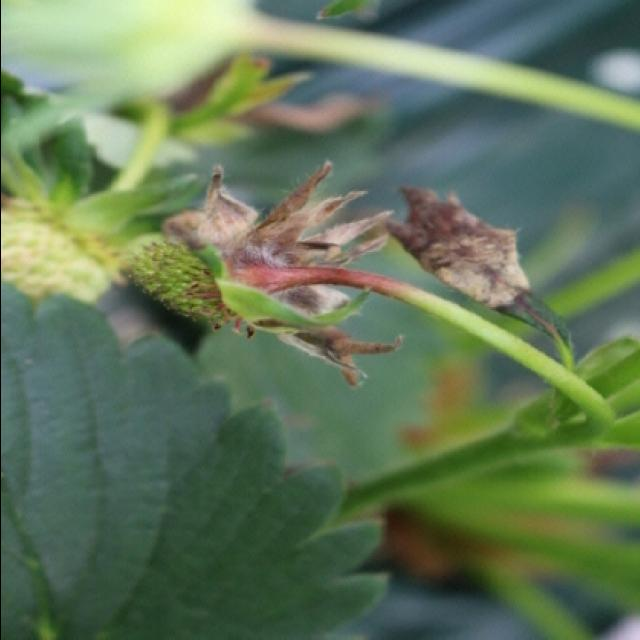Gray Mold: (157, 161, 402, 390)
